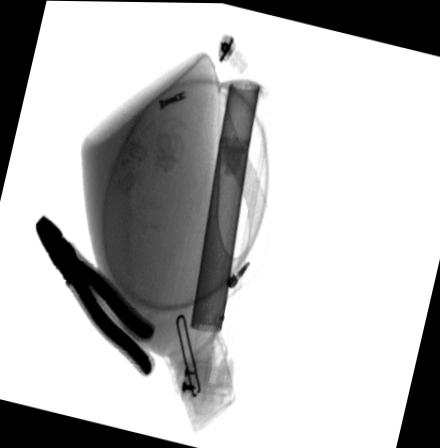Pliers: (33, 211, 156, 376)
